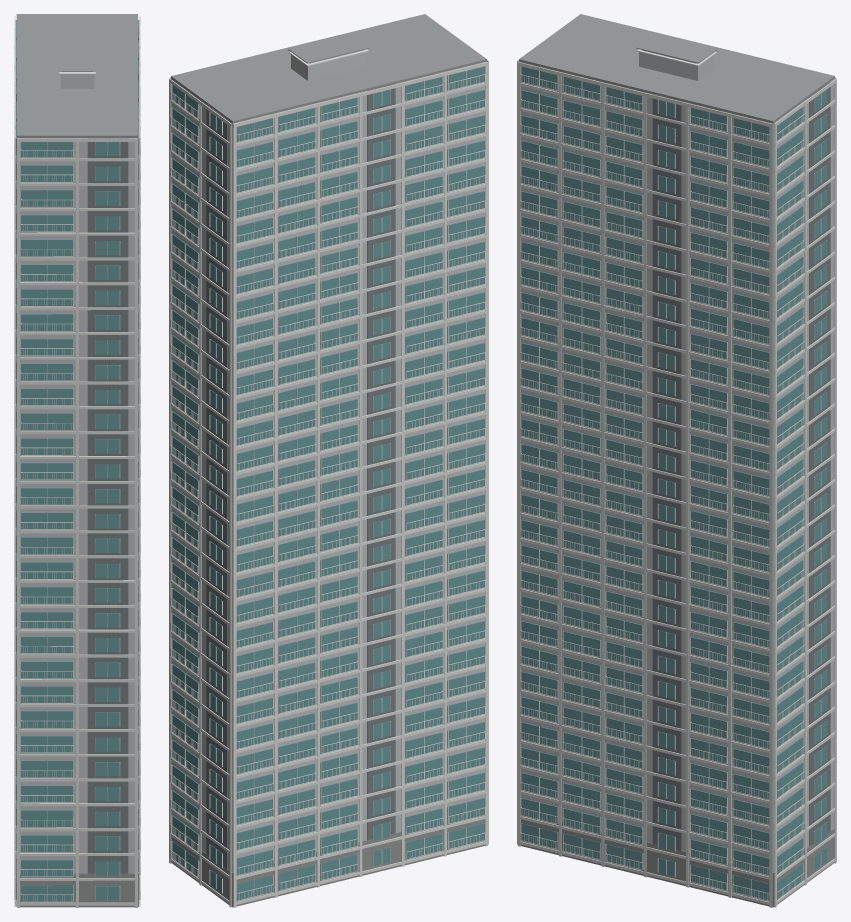
Rendered from bespoke-jamsil-ricenz-257.glb.
The picture shows the model from 3 angles, left to right: view 1: azimuth 30°, elevation 25°; view 2: azimuth 150°, elevation 25°; view 3: azimuth 270°, elevation 25°; orthographic projection.
Visible parts, largest first — view 1: Ricenz257_editable_Ricenz257_turquoise_balcony_glazing, Ricenz257_white_exact_chunk_2, Ricenz257_editable_Ricenz257_light_grey_solid_wall, Ricenz257_editable_Ricenz257_narrow_charcoal_service_strips, Ricenz257_editable_Ricenz257_modest_grey_flat_roof_caps, Ricenz257_editable_Ricenz257_muted_ground_wall, Ricenz257_white_exact_chunk_5, Ricenz257_white_exact_chunk_3, Ricenz257_white_exact_chunk_1, Ricenz257_white_exact_chunk_4; view 2: Ricenz257_editable_Ricenz257_turquoise_balcony_glazing, Ricenz257_editable_Ricenz257_light_grey_solid_wall, Ricenz257_white_exact_chunk_1, Ricenz257_white_exact_chunk_0, Ricenz257_white_exact_chunk_2, Ricenz257_white_exact_chunk_5, Ricenz257_editable_Ricenz257_narrow_charcoal_service_strips, Ricenz257_editable_Ricenz257_modest_grey_flat_roof_caps, Ricenz257_editable_Ricenz257_muted_ground_wall; view 3: Ricenz257_editable_Ricenz257_turquoise_balcony_glazing, Ricenz257_editable_Ricenz257_light_grey_solid_wall, Ricenz257_white_exact_chunk_5, Ricenz257_white_exact_chunk_4, Ricenz257_white_exact_chunk_3, Ricenz257_editable_Ricenz257_narrow_charcoal_service_strips, Ricenz257_editable_Ricenz257_modest_grey_flat_roof_caps, Ricenz257_white_exact_chunk_2, Ricenz257_editable_Ricenz257_muted_ground_wall.
Part boxes in pixels (x1,y1,x2,y2): Ricenz257_editable_Ricenz257_turquoise_balcony_glazing: [15, 20, 139, 901]; Ricenz257_white_exact_chunk_2: [14, 16, 140, 907]; Ricenz257_editable_Ricenz257_light_grey_solid_wall: [16, 60, 138, 873]; Ricenz257_editable_Ricenz257_narrow_charcoal_service_strips: [16, 60, 138, 873]; Ricenz257_editable_Ricenz257_modest_grey_flat_roof_caps: [16, 14, 138, 137]; Ricenz257_editable_Ricenz257_muted_ground_wall: [16, 829, 138, 907]; Ricenz257_white_exact_chunk_5: [59, 16, 140, 906]; Ricenz257_white_exact_chunk_3: [139, 109, 140, 871]; Ricenz257_white_exact_chunk_1: [14, 69, 15, 904]; Ricenz257_white_exact_chunk_4: [139, 40, 140, 411]; Ricenz257_editable_Ricenz257_turquoise_balcony_glazing: [172, 66, 484, 900]; Ricenz257_editable_Ricenz257_light_grey_solid_wall: [171, 50, 486, 872]; Ricenz257_white_exact_chunk_1: [320, 76, 485, 873]; Ricenz257_white_exact_chunk_0: [236, 107, 359, 904]; Ricenz257_white_exact_chunk_2: [233, 59, 488, 907]; Ricenz257_white_exact_chunk_5: [169, 49, 368, 907]; Ricenz257_editable_Ricenz257_narrow_charcoal_service_strips: [206, 84, 395, 868]; Ricenz257_editable_Ricenz257_modest_grey_flat_roof_caps: [171, 14, 486, 123]; Ricenz257_editable_Ricenz257_muted_ground_wall: [171, 815, 484, 907]; Ricenz257_editable_Ricenz257_turquoise_balcony_glazing: [521, 66, 826, 900]; Ricenz257_editable_Ricenz257_light_grey_solid_wall: [519, 50, 834, 872]; Ricenz257_white_exact_chunk_5: [518, 49, 836, 907]; Ricenz257_white_exact_chunk_4: [604, 87, 769, 904]; Ricenz257_white_exact_chunk_3: [520, 66, 643, 874]; Ricenz257_editable_Ricenz257_narrow_charcoal_service_strips: [652, 82, 830, 850]; Ricenz257_editable_Ricenz257_modest_grey_flat_roof_caps: [519, 14, 834, 123]; Ricenz257_white_exact_chunk_2: [517, 59, 835, 853]; Ricenz257_editable_Ricenz257_muted_ground_wall: [521, 815, 834, 907].
Size of the model in its own units: 27.21 by 93.91 by 33.81.
